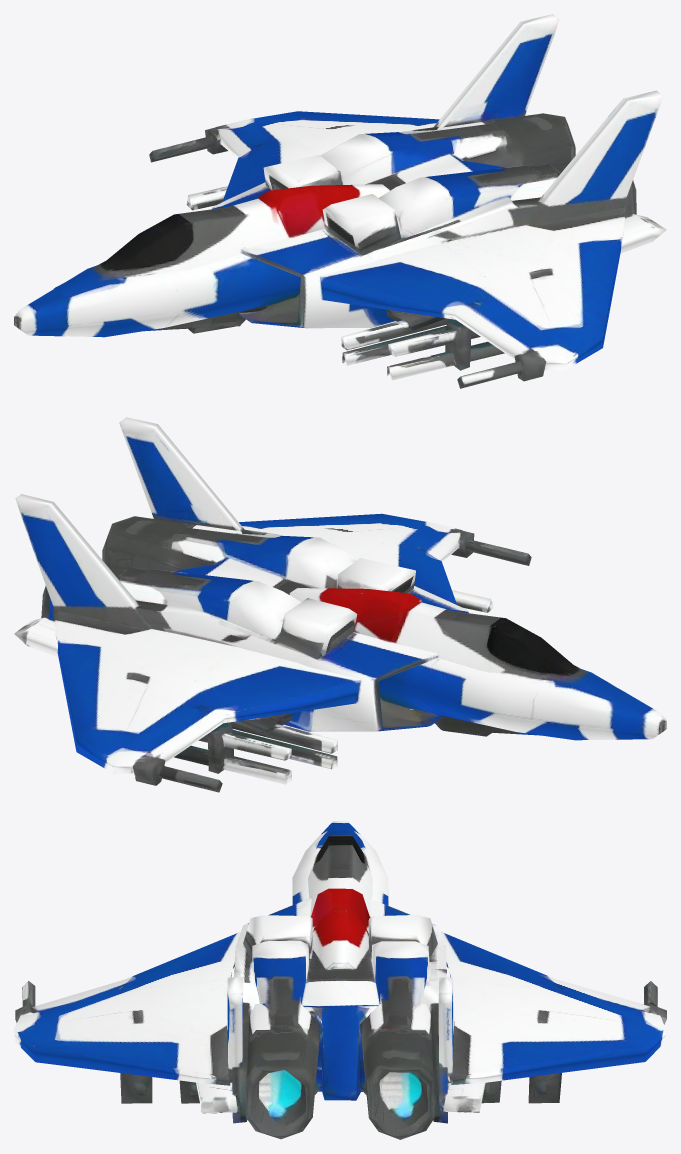
Rendered from aurora_one.glb.
The picture shows the model from 3 angles, top to bottom: view 1: azimuth 30°, elevation 25°; view 2: azimuth 150°, elevation 25°; view 3: azimuth 270°, elevation 25°; orthographic projection.
Visible parts, largest first — view 1: mesh_node; view 2: mesh_node; view 3: mesh_node.
Boxes of the visible parts, x1,y1,x2,y2 form: mesh_node: (14,14,666,388); mesh_node: (14,417,666,792); mesh_node: (14,821,666,1139).
Size of the model in its own units: 1 by 0.2998 by 0.9492.
Materials: 1 (1 with a texture image).
